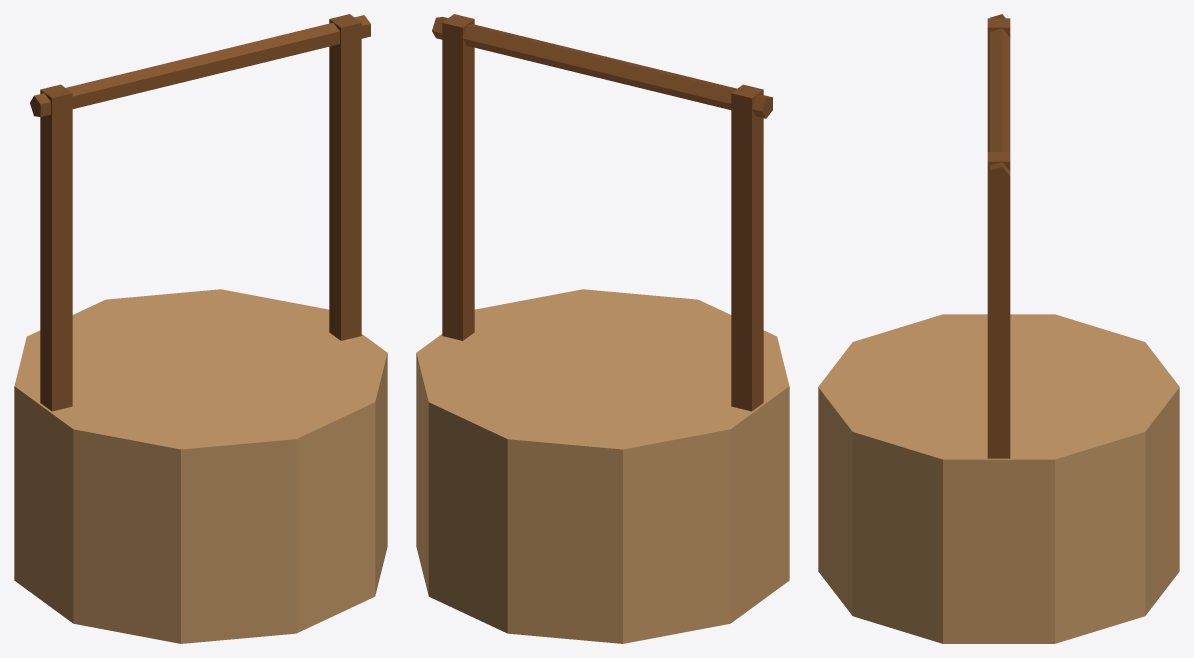
Rendered from stone_well.fbx.
3 views of the same model, side by side, from view 1: azimuth 30°, elevation 25°; view 2: azimuth 150°, elevation 25°; view 3: azimuth 270°, elevation 25° (orthographic). The views are drawn at different scales.
Parts seen in each view (by area): view 1: stone_well; view 2: stone_well; view 3: stone_well.
Boxes of the visible parts, <box> form: stone_well: <box>14,14,387,643</box>; stone_well: <box>416,14,789,643</box>; stone_well: <box>818,14,1179,643</box>.
Size of the model in its own units: 1.6 by 2.35 by 1.6.
